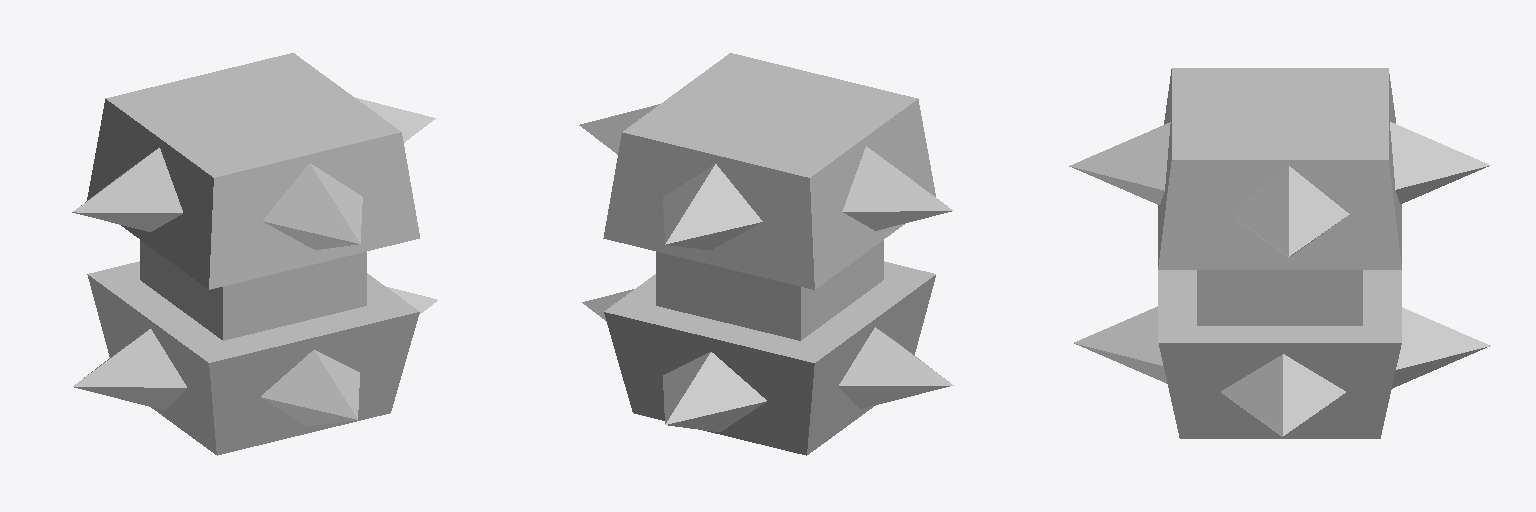
The model's file is segmentv24paint.obj.
3 views of the same model, side by side, from view 1: azimuth 30°, elevation 25°; view 2: azimuth 150°, elevation 25°; view 3: azimuth 270°, elevation 25° (orthographic).
Visible parts, largest first — view 1: segment; view 2: segment; view 3: segment.
Boxes of the visible parts, x1,y1,x2,y2 form: segment: [72, 53, 437, 455]; segment: [579, 53, 953, 455]; segment: [1069, 68, 1490, 438].
Bounding box in the file's own units: 8.76 × 6.39 × 8.67.